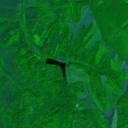alloviz: (45, 56, 67, 78)
